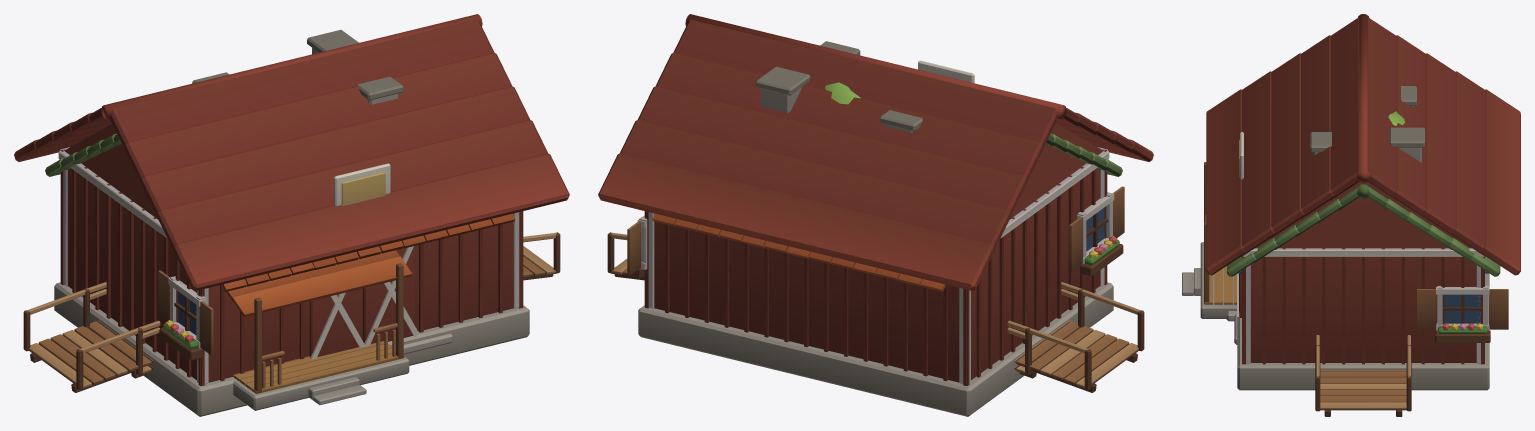
File: valley_kit.glb
The picture shows the model from 3 angles, left to right: view 1: azimuth 30°, elevation 25°; view 2: azimuth 150°, elevation 25°; view 3: azimuth 270°, elevation 25°; orthographic projection. The views are drawn at different scales.
Visible parts, largest first — view 1: barn_body, house_player_body, bridge_12_body, house_villager_b_body, shop_body, bridge_9_body; view 2: barn_body, bridge_12_body, house_player_body, shop_body, bridge_9_body, house_villager_a_body; view 3: barn_body, bridge_12_body, shop_body, house_player_body, barn_glow, house_villager_b_body.
Part boxes in pixels (x1,y1,x2,y2): barn_body: [14, 14, 569, 416]; house_player_body: [222, 29, 515, 410]; bridge_12_body: [23, 232, 560, 392]; house_villager_b_body: [357, 76, 452, 354]; shop_body: [45, 133, 121, 176]; bridge_9_body: [83, 289, 159, 378]; barn_body: [598, 14, 1153, 416]; bridge_12_body: [607, 232, 1144, 392]; house_player_body: [652, 66, 945, 291]; shop_body: [1046, 133, 1122, 176]; bridge_9_body: [1007, 289, 1084, 378]; house_villager_a_body: [879, 110, 922, 132]; barn_body: [1206, 14, 1520, 390]; bridge_12_body: [1315, 335, 1411, 416]; shop_body: [1226, 184, 1500, 321]; house_player_body: [1182, 127, 1424, 318]; barn_glow: [1444, 294, 1480, 323]; house_villager_b_body: [1234, 132, 1488, 344].
Bounding box in the file's own units: 12.13 × 7.06 × 8.53.
